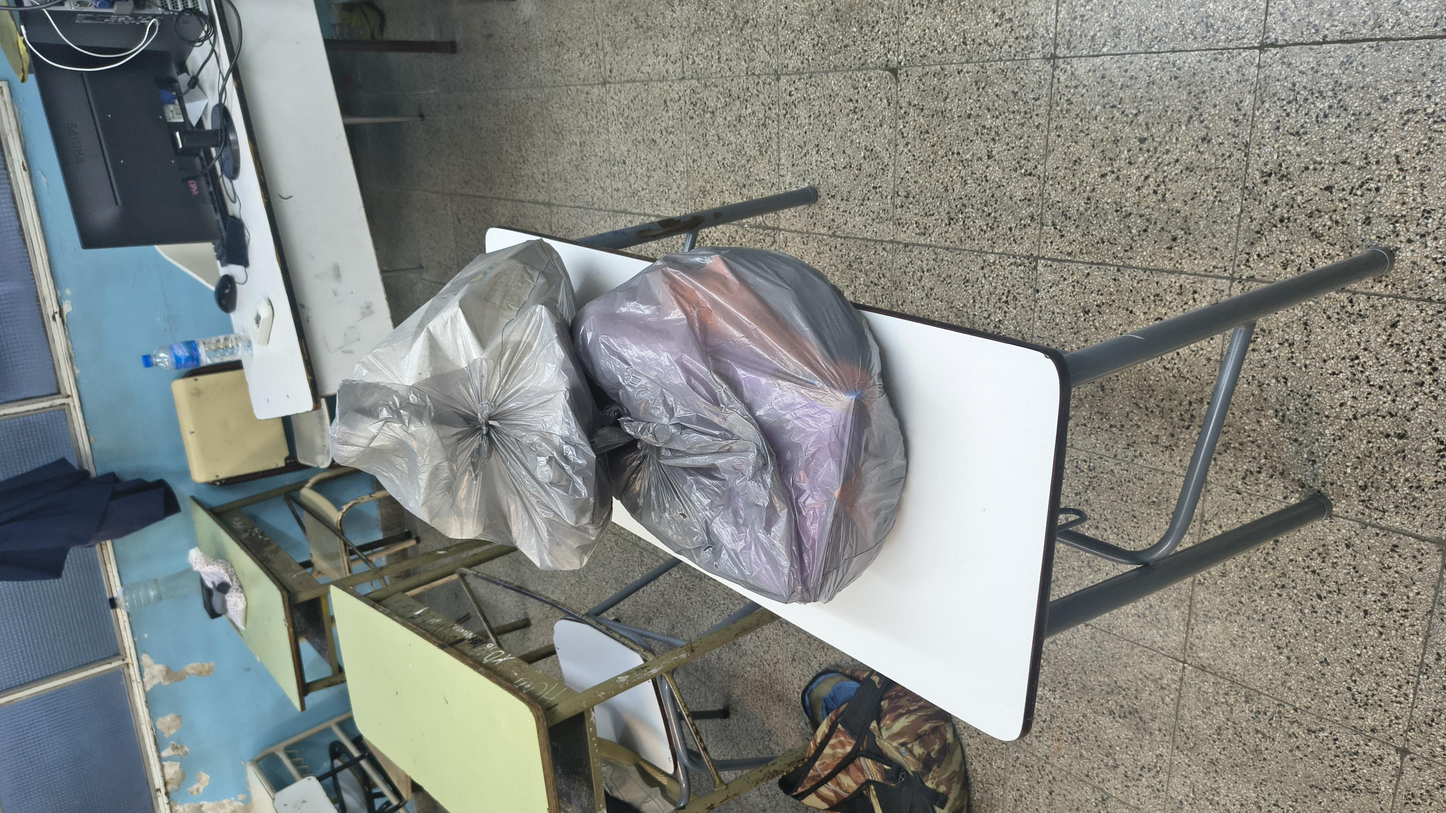Garbage: (301, 310, 1079, 522), (395, 179, 1073, 341)
